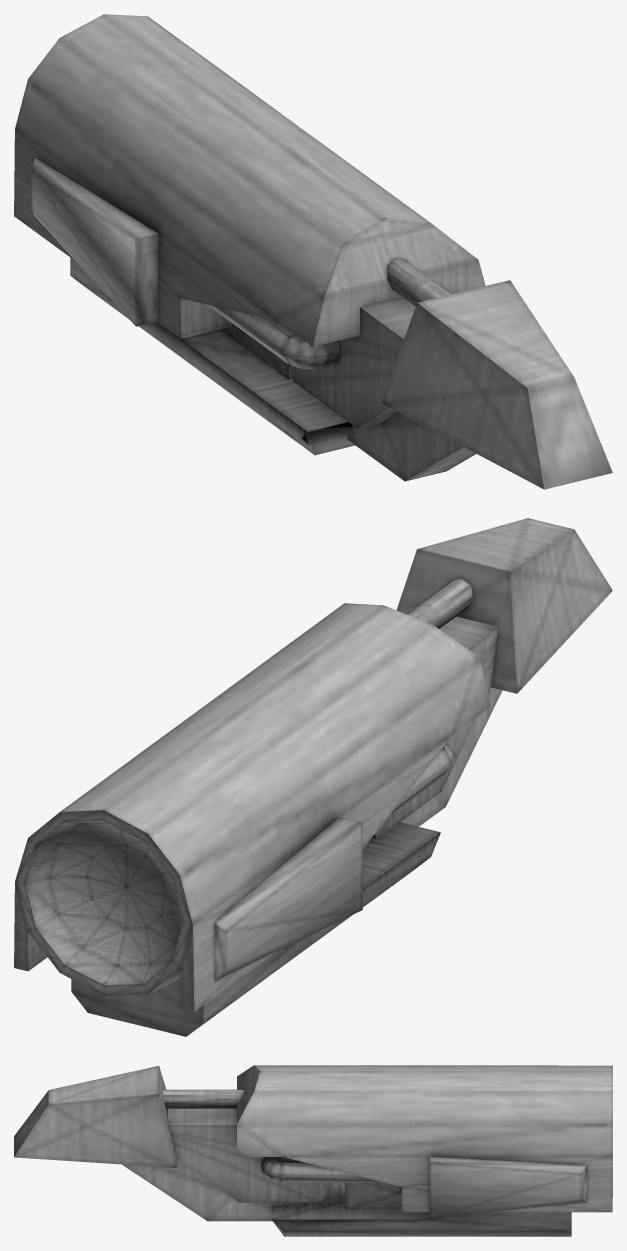
The model's file is forma.obj.
3 renders of one model, top to bottom at view 1: azimuth 30°, elevation 25°; view 2: azimuth 150°, elevation 25°; view 3: azimuth 270°, elevation 25°, orthographic. The views are drawn at different scales.
Parts seen in each view (by area): view 1: object_5, object_7, object_2, object_4, object_9, object_8, object_10, object_6, object_3; view 2: object_5, object_7, object_2, object_4, object_9, object_8, object_6, object_10; view 3: object_5, object_7, object_4, object_1, object_9, object_8, object_11, object_6, object_3.
Part boxes in pixels (bbox=[...]): object_5: bbox=[14, 14, 485, 346]; object_7: bbox=[381, 280, 612, 489]; object_2: bbox=[31, 157, 158, 326]; object_4: bbox=[70, 257, 355, 455]; object_9: bbox=[289, 287, 452, 428]; object_8: bbox=[347, 412, 476, 481]; object_10: bbox=[207, 304, 340, 369]; object_6: bbox=[387, 258, 451, 306]; object_3: bbox=[220, 325, 292, 379]; object_5: bbox=[14, 603, 490, 1011]; object_7: bbox=[396, 518, 612, 693]; object_2: bbox=[214, 817, 362, 981]; object_4: bbox=[71, 822, 440, 1036]; object_9: bbox=[372, 607, 498, 839]; object_8: bbox=[400, 687, 502, 826]; object_6: bbox=[406, 578, 472, 628]; object_10: bbox=[388, 742, 455, 816]; object_5: bbox=[237, 1065, 612, 1212]; object_7: bbox=[14, 1066, 177, 1167]; object_4: bbox=[272, 1183, 571, 1236]; object_1: bbox=[429, 1156, 586, 1218]; object_9: bbox=[168, 1108, 333, 1202]; object_8: bbox=[122, 1159, 304, 1221]; object_11: bbox=[261, 1157, 384, 1182]; object_6: bbox=[162, 1089, 244, 1108]; object_3: bbox=[345, 1183, 401, 1208].
Size of the model in its own units: 0.2749 by 0.2773 by 1.
Materials: 1 (1 with a texture image).
